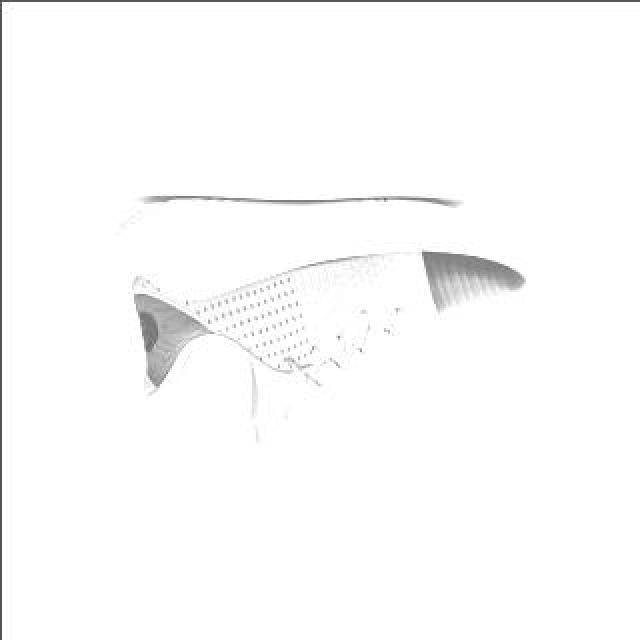shoe: (110, 194, 532, 450)
